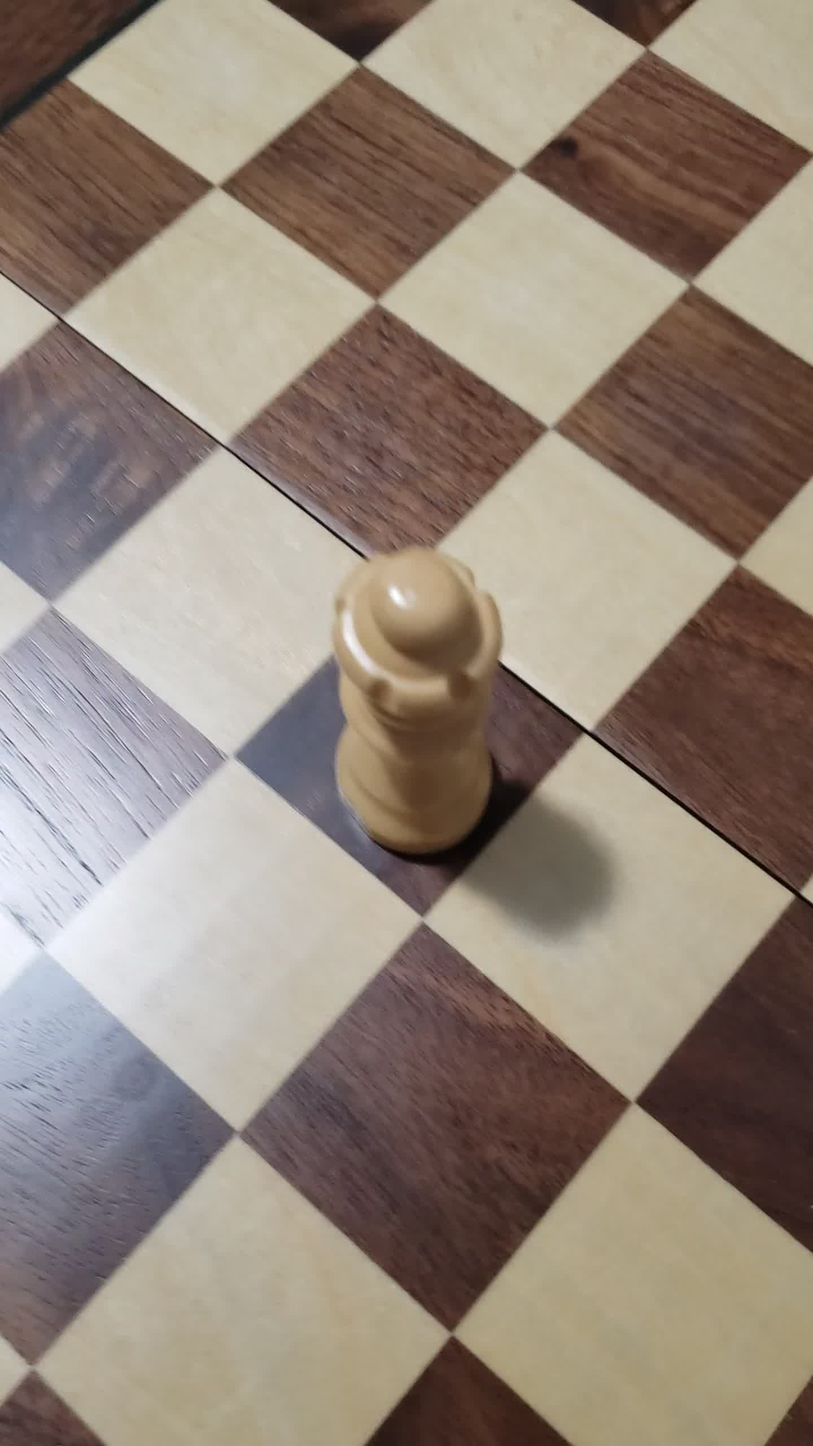white-queen: (279, 534, 539, 899)
